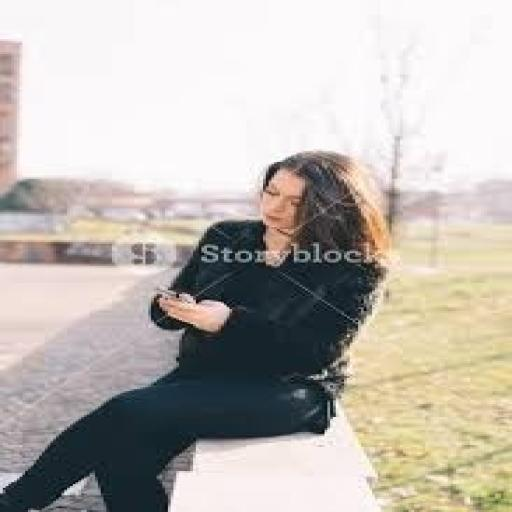texting: (0, 147, 394, 510)
